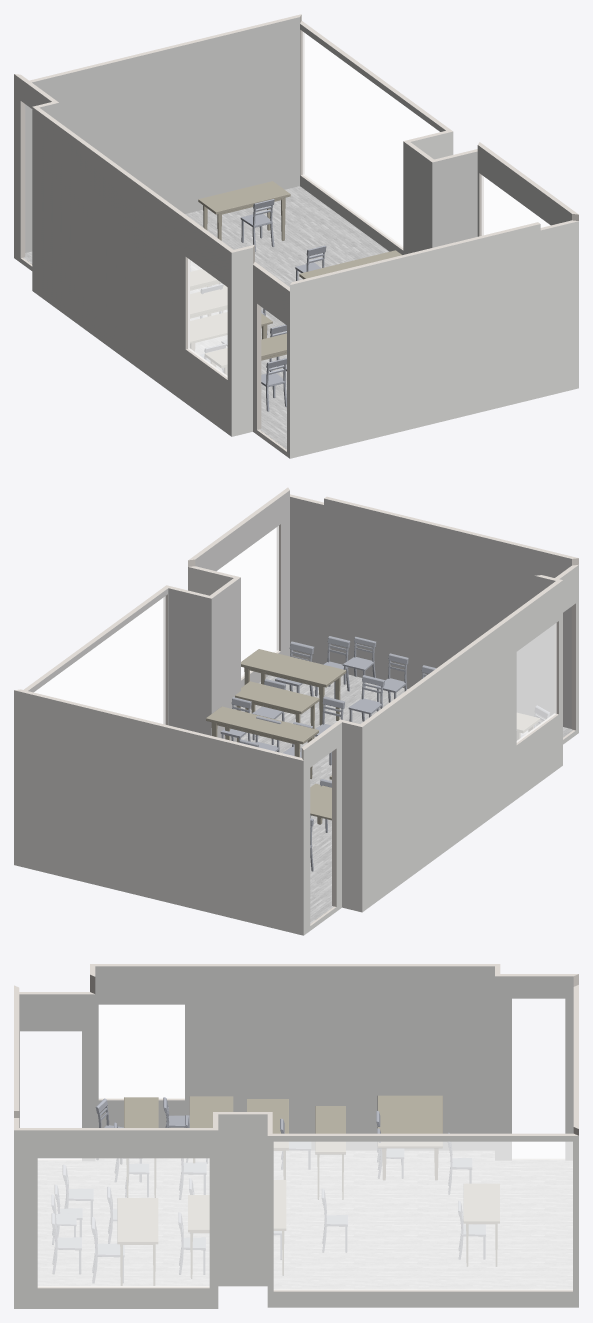
Rendered from Classroom_ALH_Scan.glb.
3 views of the same model, one above another, from view 1: azimuth 30°, elevation 25°; view 2: azimuth 150°, elevation 25°; view 3: azimuth 270°, elevation 25° (orthographic). The views are drawn at different scales.
Parts seen in each view (by area): view 1: wall_9, wall_34, wall_8, window_1, window_4, floor_Dining_Room, wall_10, wall_12, window_2, window_5, wall_22, wall_18 (+20 smaller); view 2: wall_11, wall_30, wall_8, window_1, window_4, wall_14, floor_Dining_Room, window_0, window_3, wall_7, wall_18, window_2 (+23 smaller); view 3: wall_28, floor_Dining_Room, window_1, window_4, window_0, window_3, wall_3, wall_2, wall_5, window_2, window_5, wall_20 (+22 smaller).
Boxes of the visible parts, x1,y1,x2,y2 form: wall_9: (290,221,578,458); wall_34: (25,17,299,252); wall_8: (32,107,231,436); window_1: (303,32,439,247); window_4: (303,32,438,247); floor_Dining_Room: (23,186,389,449); wall_10: (231,247,252,436); wall_12: (432,151,477,247); window_2: (188,259,227,377); window_5: (188,259,227,376); wall_22: (403,141,432,254); wall_18: (477,145,571,236); wall_11: (14,690,303,935); wall_30: (290,497,571,728); wall_8: (362,580,562,911); window_1: (34,596,165,724); window_4: (34,597,165,723); wall_14: (168,588,211,735); floor_Dining_Room: (241,675,572,923); window_0: (217,526,278,677); window_3: (217,526,278,677); wall_7: (342,722,362,912); wall_18: (195,490,289,687); window_2: (517,623,556,742); wall_28: (95,966,494,1150); floor_Dining_Room: (38,1151,572,1288); window_1: (274,1142,572,1289); window_4: (274,1142,572,1289); window_0: (38,1158,209,1286); window_3: (38,1158,209,1286); wall_3: (14,1130,218,1308); wall_2: (267,1136,578,1307); wall_5: (218,1114,267,1286); window_2: (99,1005,184,1098); window_5: (99,1005,184,1098); wall_20: (495,976,573,1160).
Size of the model in its own units: 6.95 by 3.94 by 10.66.
Materials: 61 (1 with a texture image).
